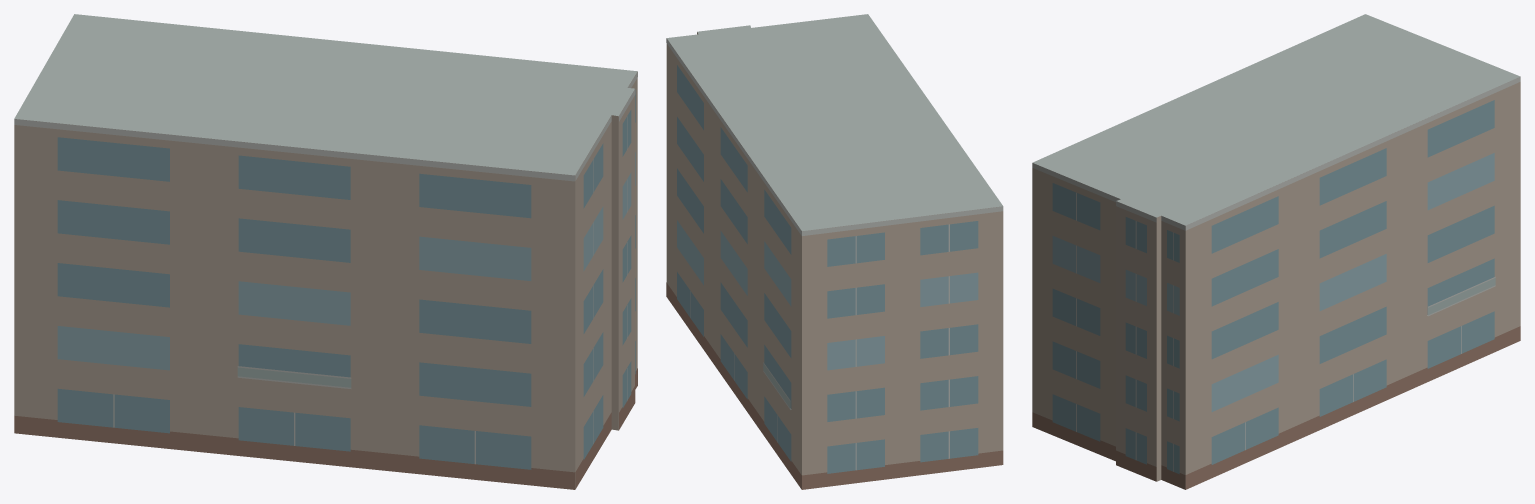
The model's file is survey-upis-32839634.glb.
The picture shows the model from 3 angles, left to right: view 1: azimuth 30°, elevation 25°; view 2: azimuth 150°, elevation 25°; view 3: azimuth 270°, elevation 25°; orthographic projection. The views are drawn at different scales.
Visible parts, largest first — view 1: survey-upis-32839634.tmp; view 2: survey-upis-32839634.tmp; view 3: survey-upis-32839634.tmp.
Boxes of the visible parts, x1=… form: survey-upis-32839634.tmp: x1=14, y1=14, x2=637, y2=489; survey-upis-32839634.tmp: x1=666, y1=14, x2=1003, y2=489; survey-upis-32839634.tmp: x1=1032, y1=14, x2=1520, y2=489.
Size of the model in its own units: 21.84 by 12.7 by 21.29.
